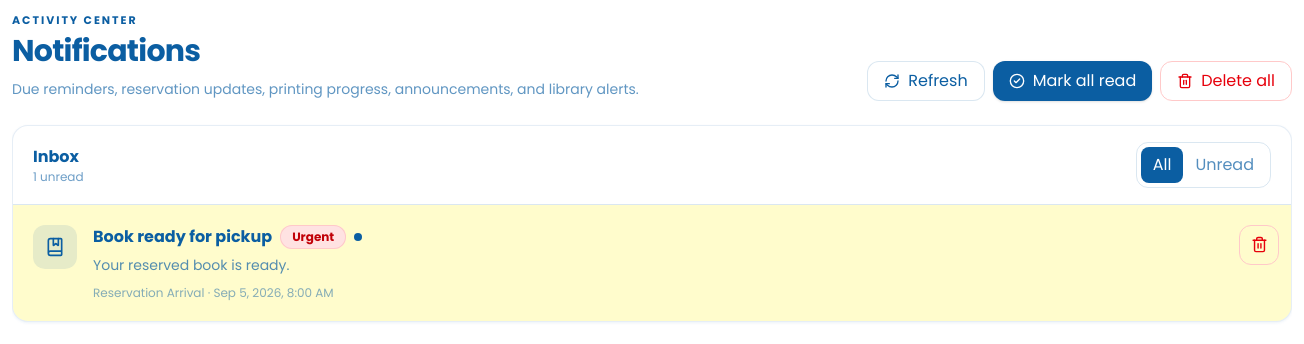
Test: notification center › lets the signed-in user delete a notification from the inbox
Step 1. Click the button named "Delete Book ready for pickup" → (1259, 244), box [1239, 224, 1279, 264]
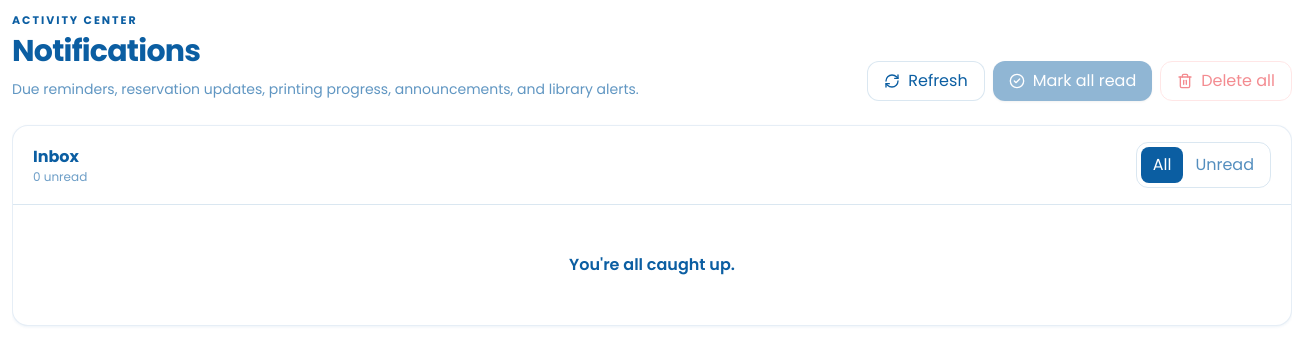
Now the text "You're all caught up." is shown, box [569, 252, 735, 276]
